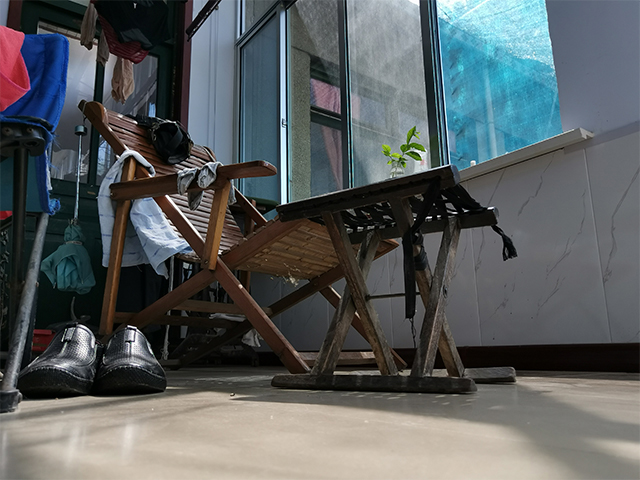stool: (77, 98, 409, 378), (270, 162, 521, 397)
